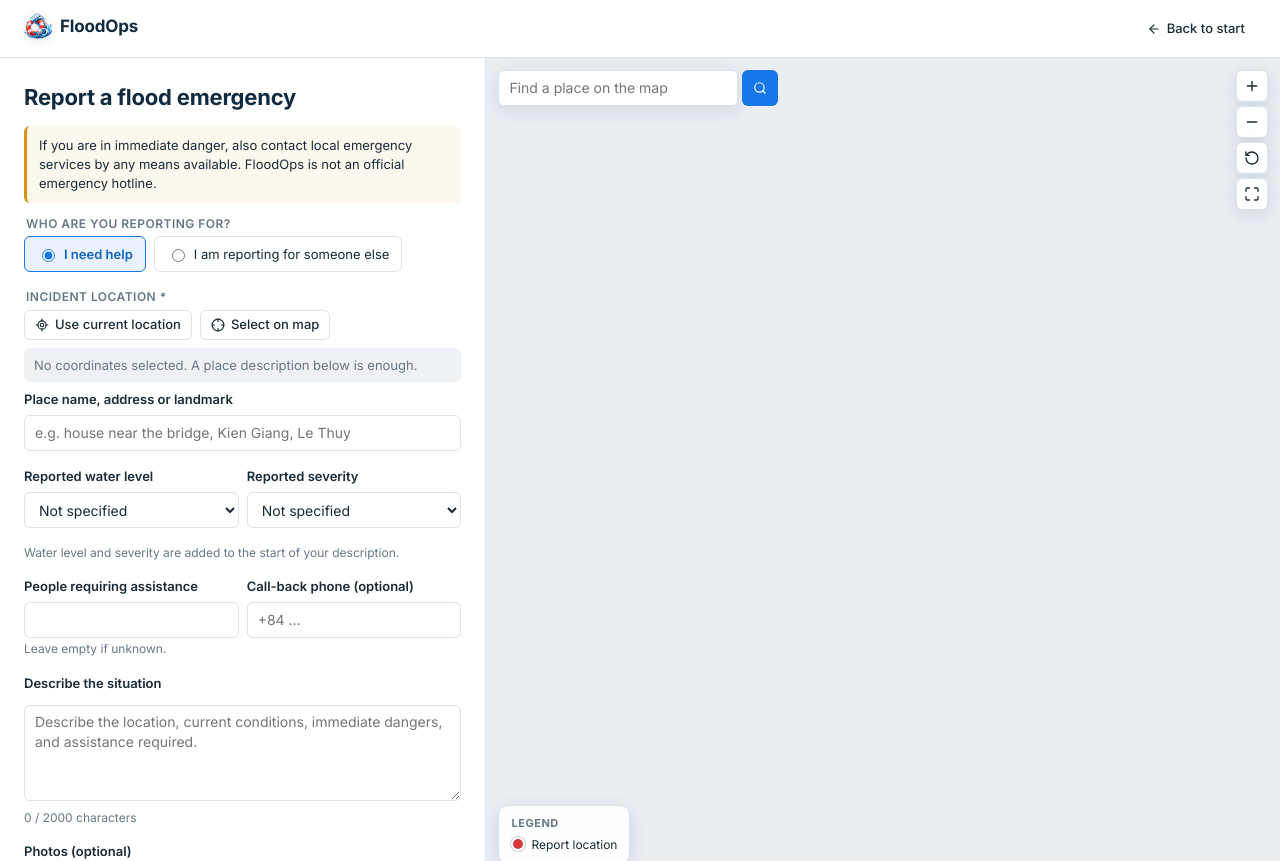
ReportPage › sets a MAP_PIN point only in picking mode
The width and height of the screenshot is (1280, 861).
Expected: the text "No coordinates selected" is shown, top-left (34, 356), bottom-right (418, 372)
Click the button "Select on map" at {"x": 265, "y": 324}, box top-left (200, 310), bottom-right (330, 340)
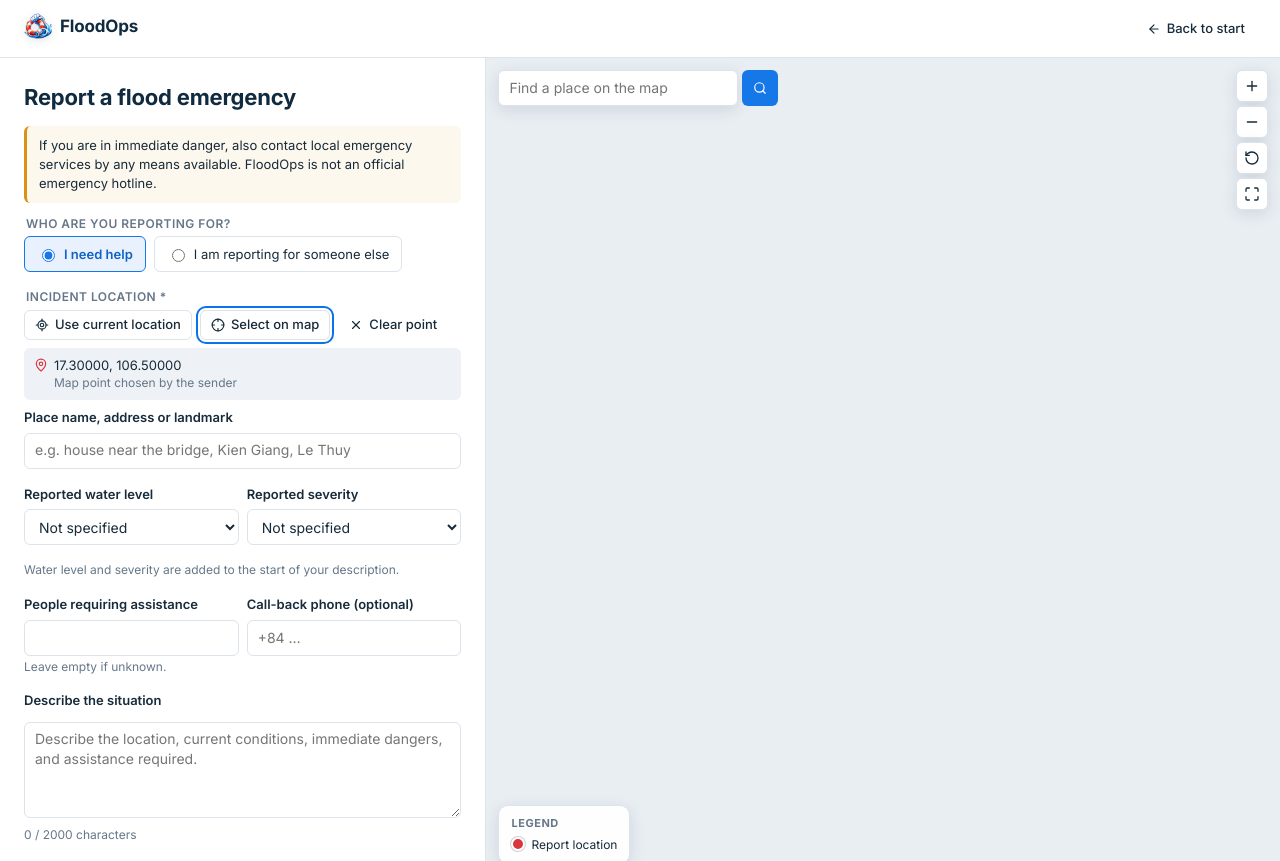
Expected: the text "17.30000, 106.50000" is shown, top-left (54, 356), bottom-right (182, 372)
Expected: the text "Map point chosen by the sender" is shown, top-left (54, 374), bottom-right (237, 392)
